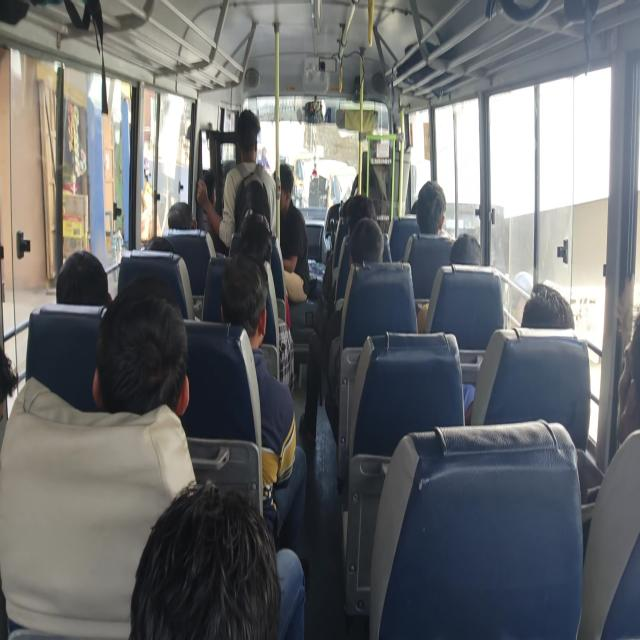person: (128, 484, 282, 639), (577, 304, 640, 632), (488, 283, 589, 481), (95, 274, 189, 420), (415, 231, 489, 341), (403, 180, 455, 287), (222, 102, 270, 195), (220, 252, 268, 340), (616, 302, 640, 447), (55, 250, 110, 309), (522, 283, 576, 332), (276, 160, 306, 233), (236, 211, 274, 268), (349, 214, 384, 267), (343, 193, 377, 234), (449, 232, 483, 267), (167, 202, 195, 230), (145, 237, 176, 255), (410, 200, 421, 215)
